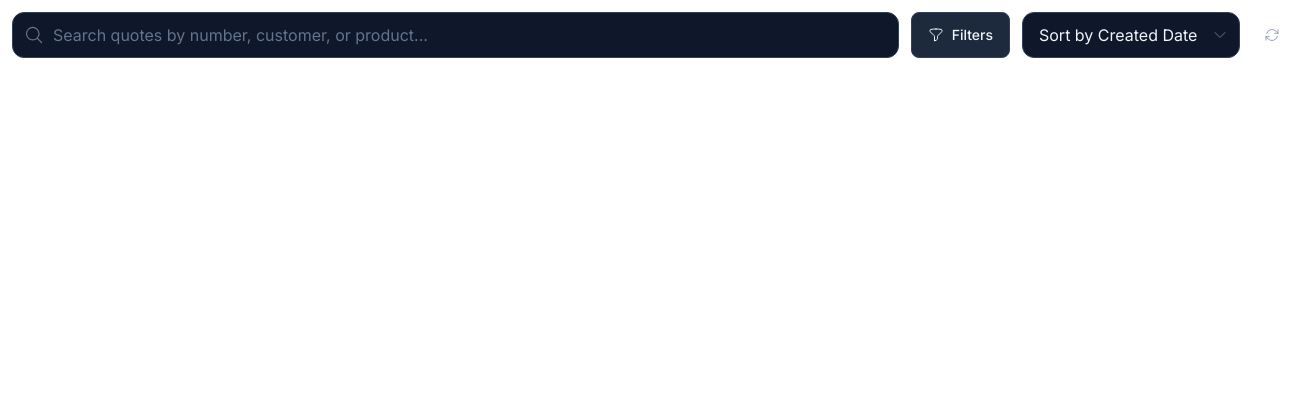
QuoteFilters › closes filter panel when done clicked
This screenshot has width=1304, height=410.
Click the button "Filters". click: (960, 35)
box: [911, 12, 1010, 58]
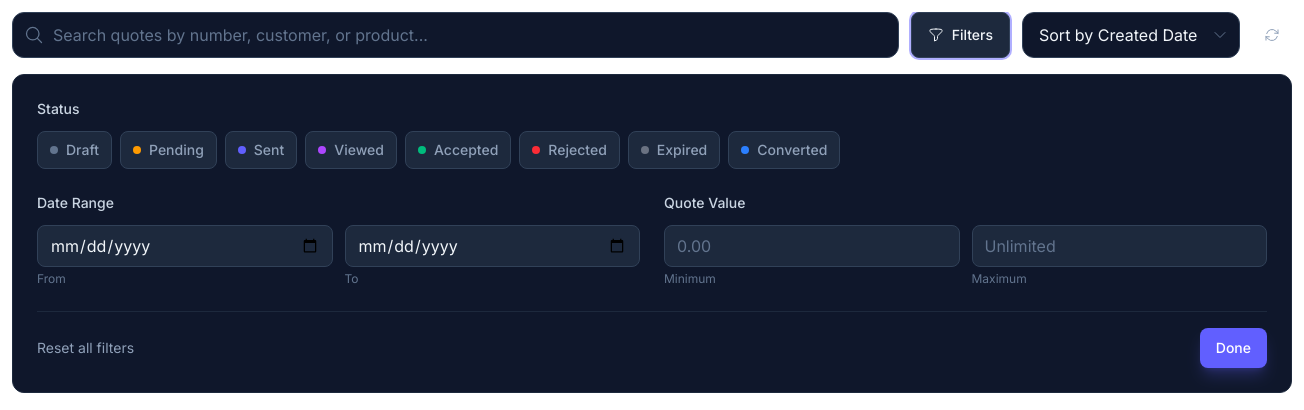
Click the button "Done". click: (1233, 348)
box: [1200, 328, 1267, 368]
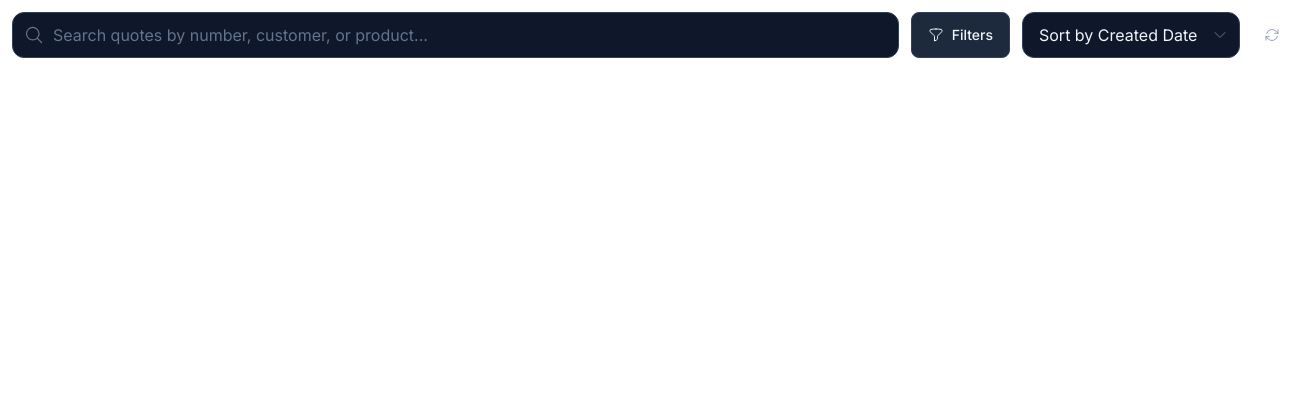
expect the button "Reset all filters" is gone: met
